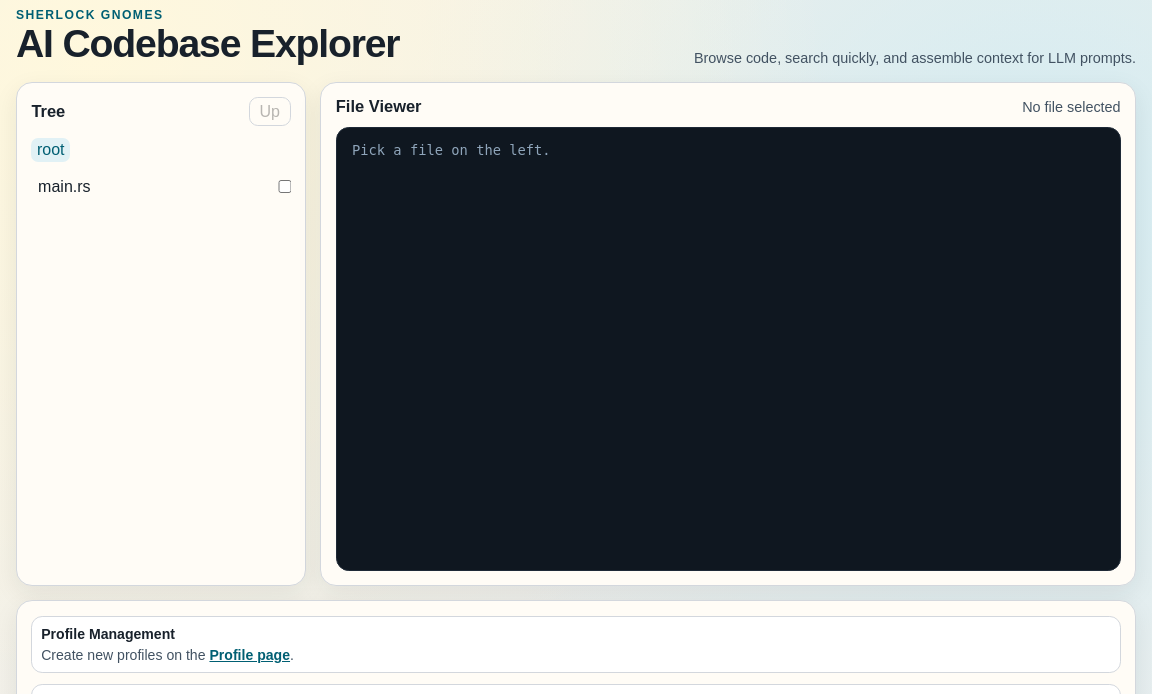
Test case: Explorer › renders ask guidance and context preview on success
The width and height of the screenshot is (1152, 694).
Click the button "main.rs" at [149, 187], box left=31, top=173, right=266, bottom=201
(page scrolled)
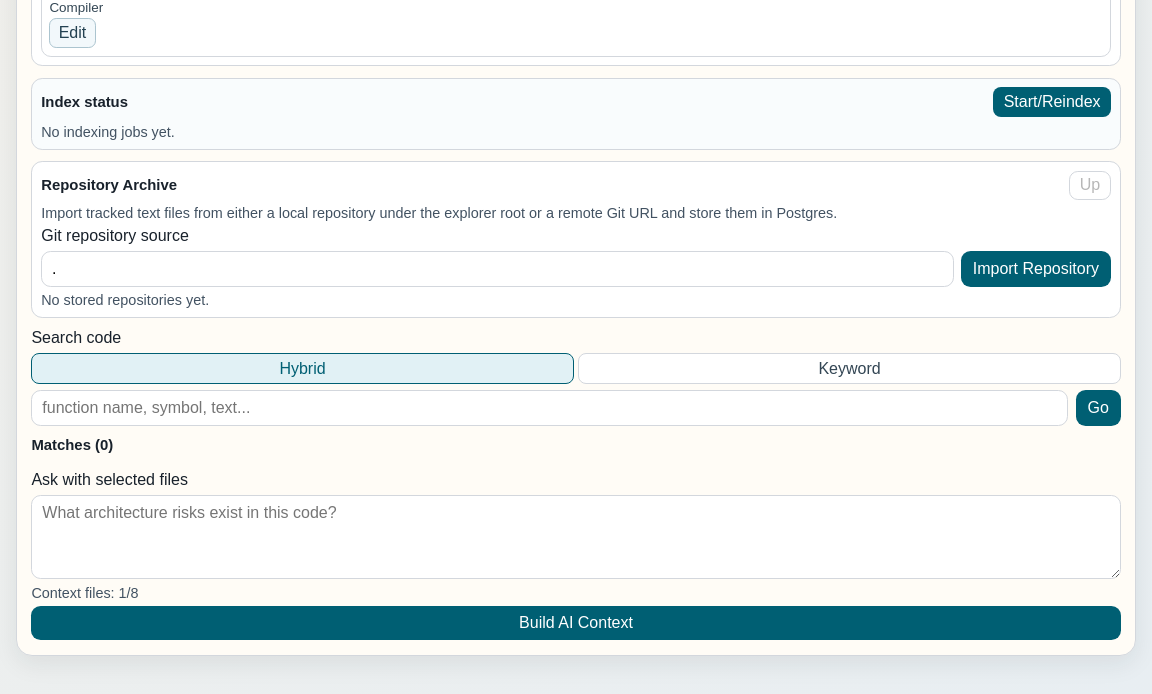
Type "What does this project do?" into the text box labelled "Ask with selected files" at [576, 537], box left=31, top=495, right=1121, bottom=579
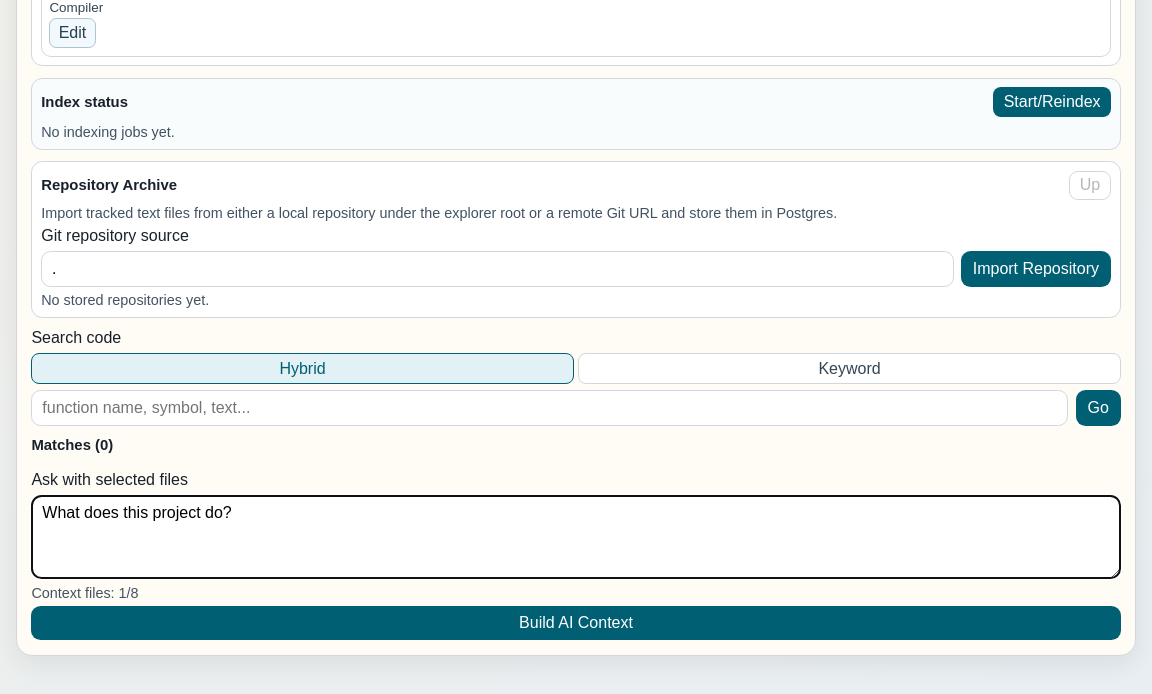
Click the button "Build AI Context" at [576, 623], box left=31, top=606, right=1121, bottom=640
(page scrolled)
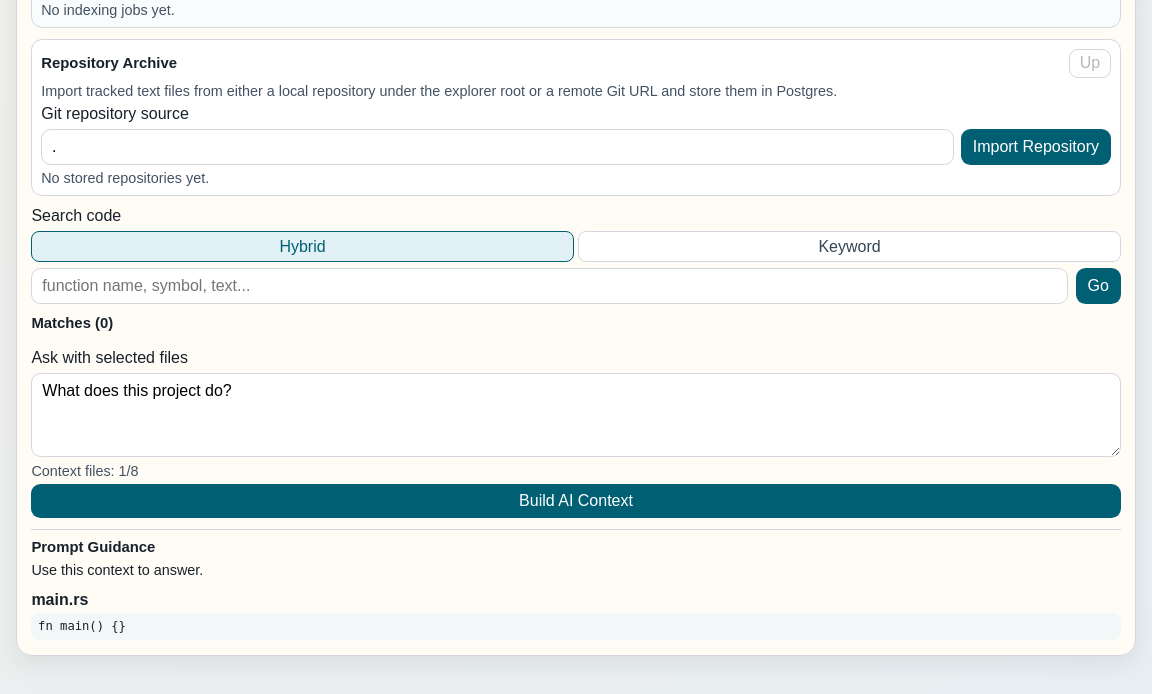
Expected: the text "Use this context to answer." is shown, left=31, top=562, right=203, bottom=578
Expected: the text "main.rs" is shown, left=31, top=591, right=88, bottom=608
Expected: the text "fn main() {}" is shown, left=31, top=613, right=1121, bottom=640
